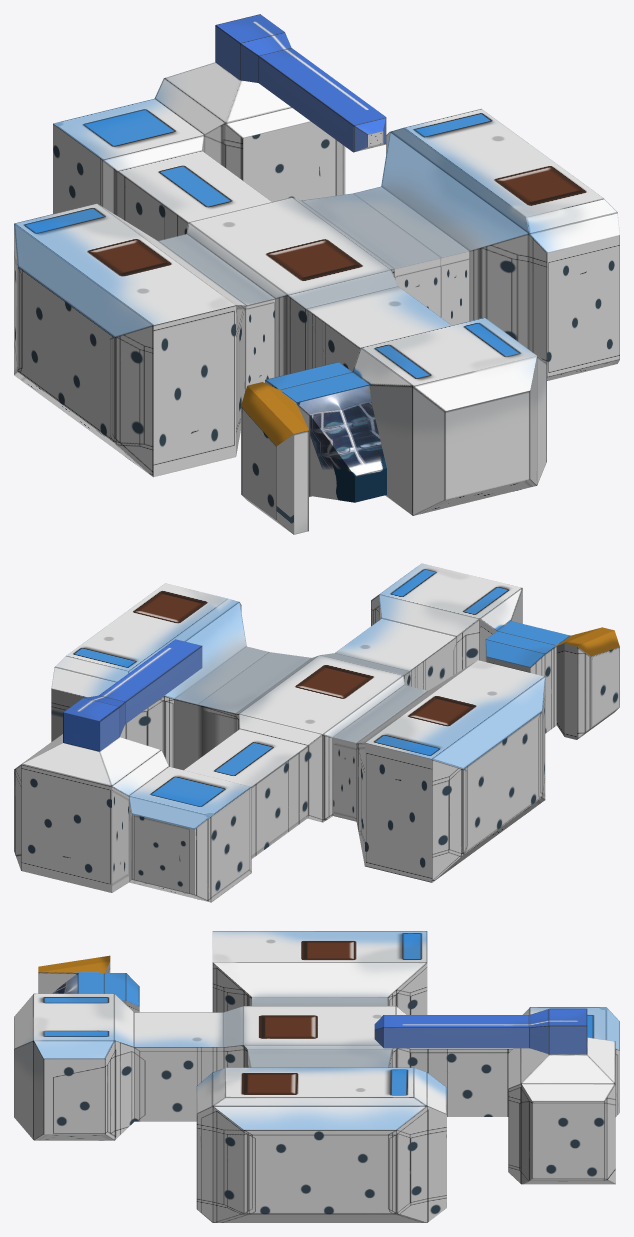
File: bossModel1.fbx
3 renders of one model, top to bottom at view 1: azimuth 30°, elevation 25°; view 2: azimuth 150°, elevation 25°; view 3: azimuth 270°, elevation 25°, orthographic. The views are drawn at different scales.
Parts seen in each view (by area): view 1: Cube; view 2: Cube; view 3: Cube.
Part boxes in pixels (box(x1,y1,x2,y2)): Cube: box(14, 14, 619, 534); Cube: box(14, 563, 619, 902); Cube: box(14, 931, 619, 1222).
Size of the model in its own units: 805 by 307 by 1093.
1 material, 1 textured.
